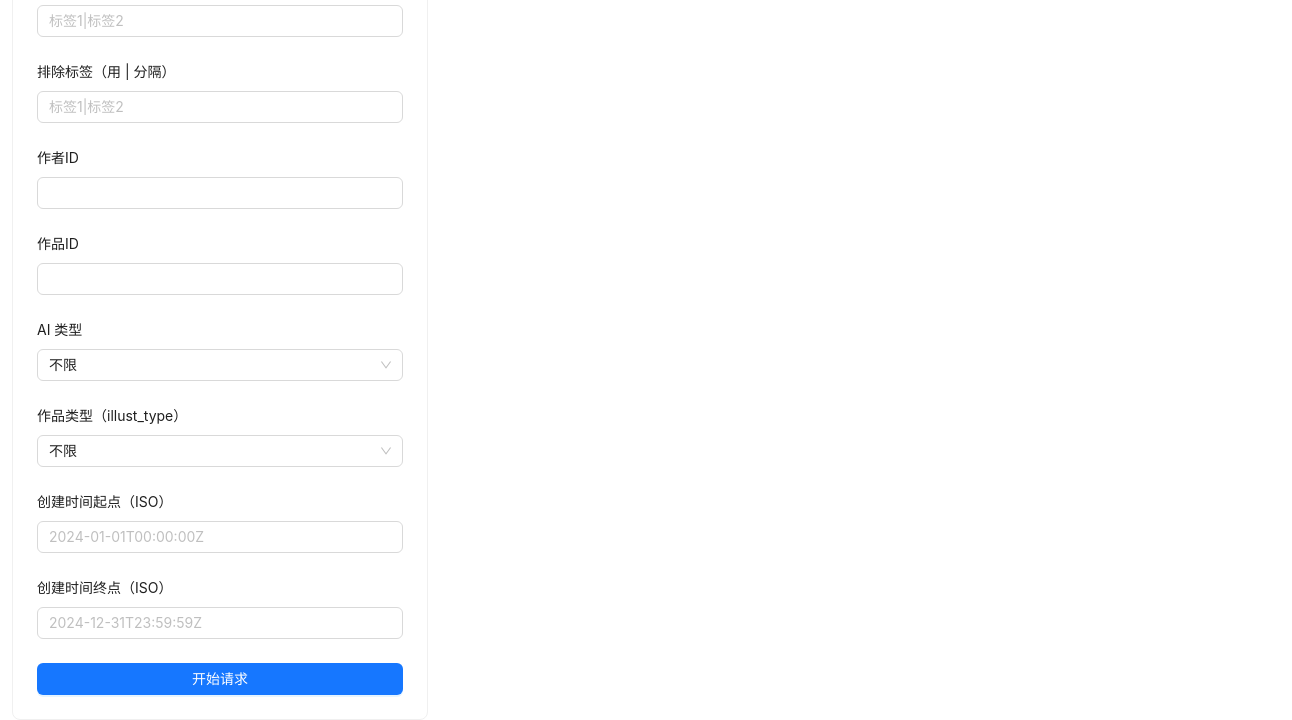
Scenario: PlaygroundPage › runs and shows request_id
The image size is (1292, 720).
(page scrolled)
Click the button "开始请求": (220, 679) 37,663 -> 403,695
(page scrolled)
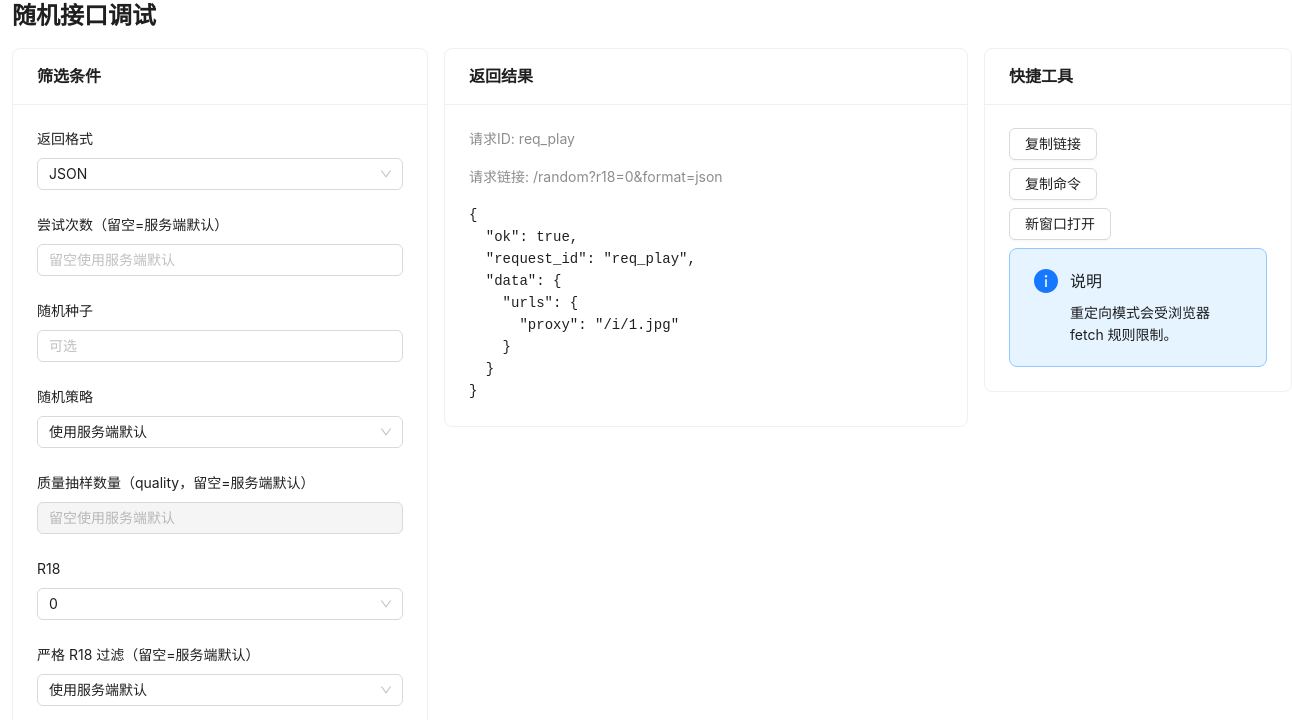
Expected: the text "请求ID: req_play" is shown, 469,130 -> 575,147
